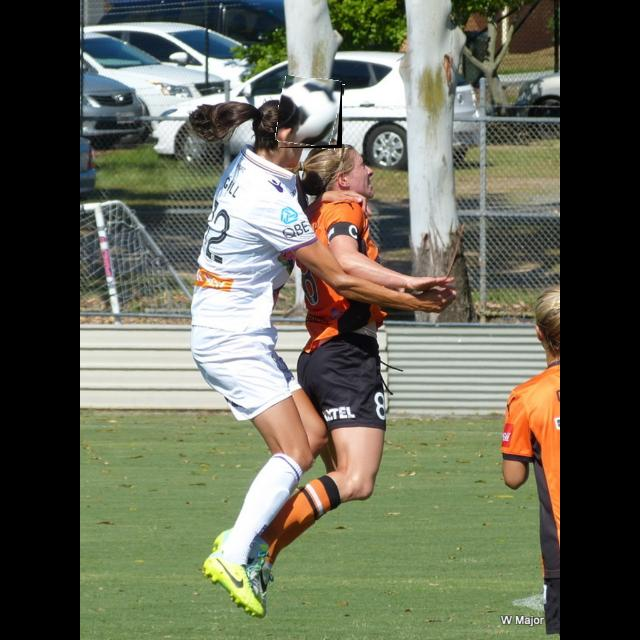Football: (278, 78, 342, 148)
